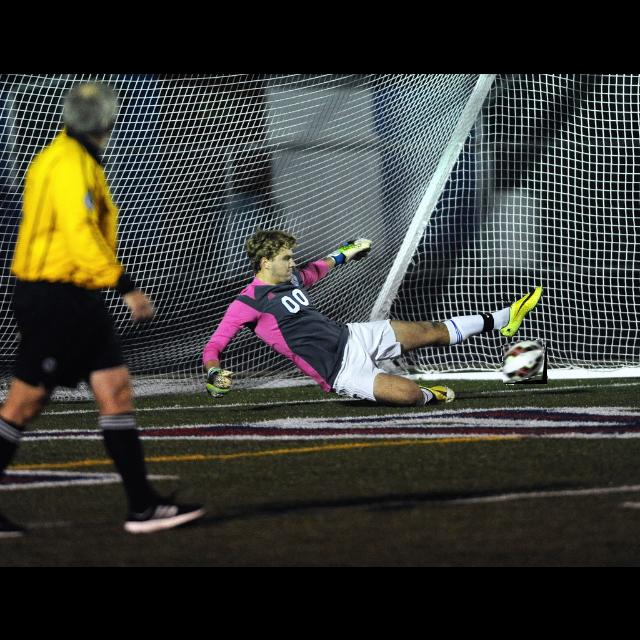Football: (503, 340, 547, 384)
